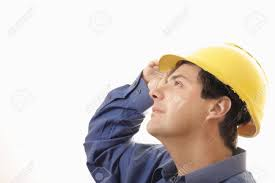Person_wearing_helmet: (141, 33, 271, 99)
